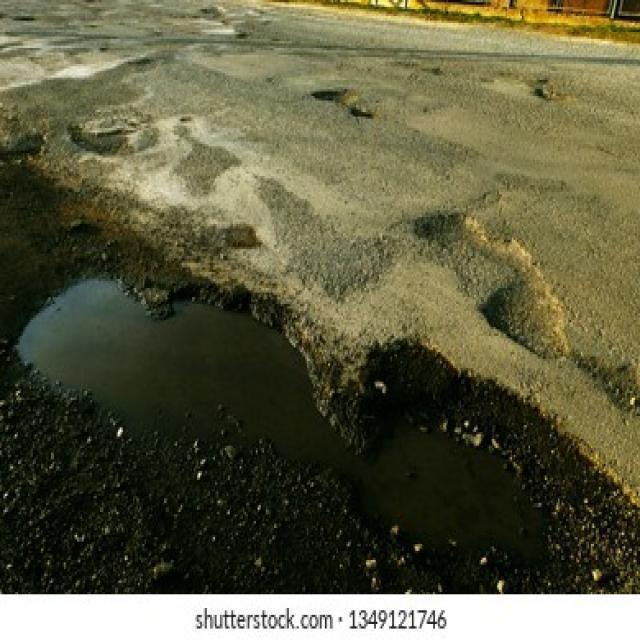pothole: (3, 238, 351, 522), (341, 352, 596, 585), (414, 208, 572, 361), (604, 359, 640, 419), (312, 87, 358, 106), (348, 103, 375, 122), (533, 84, 555, 103)
